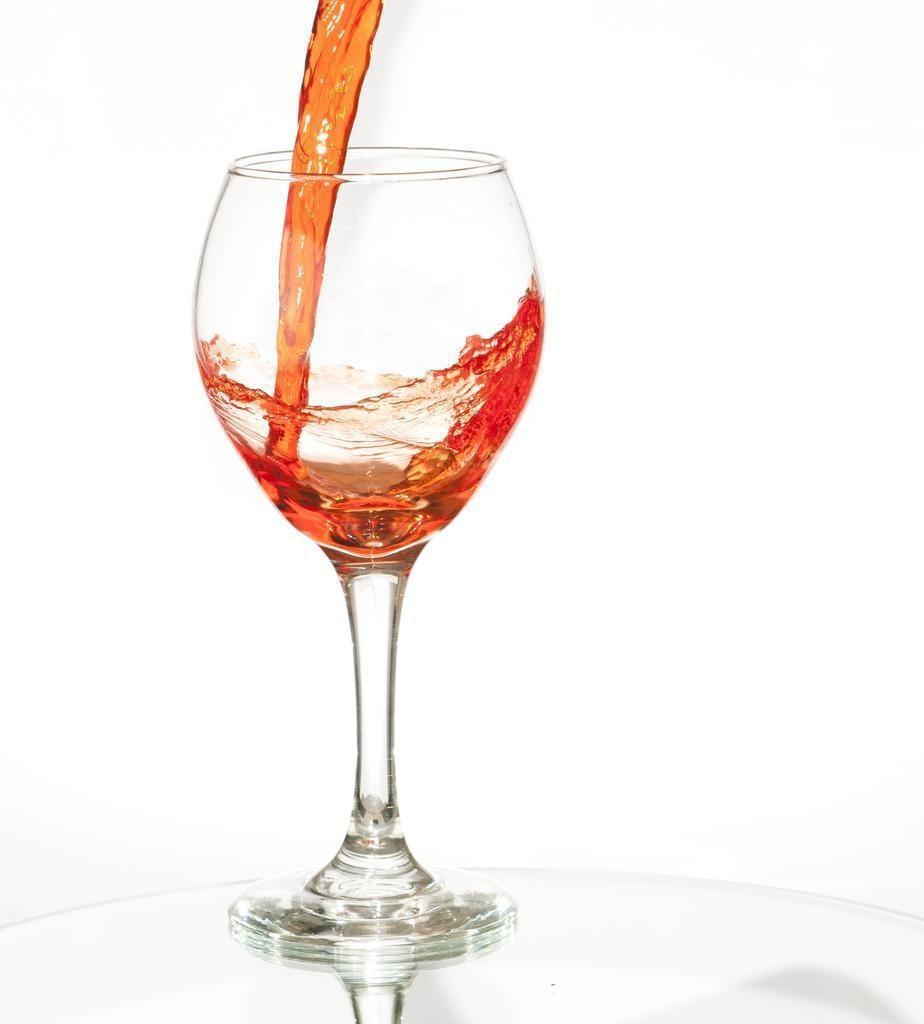glass-wine: (192, 146, 543, 958)
